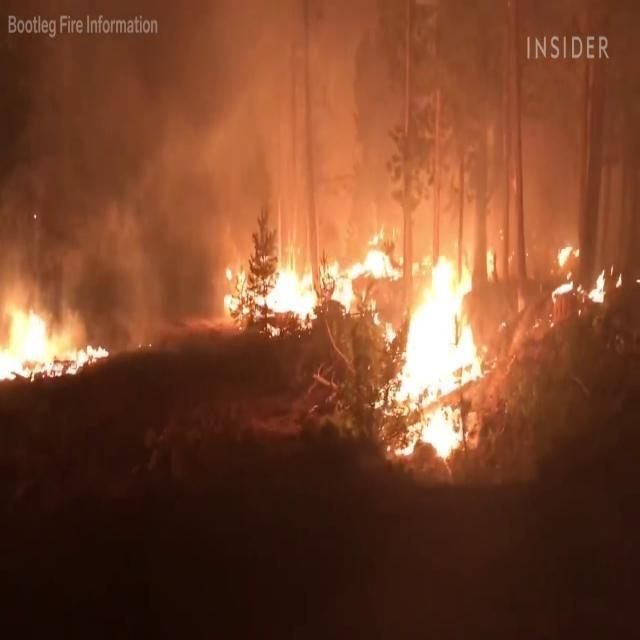Fire: (382, 236, 490, 464), (220, 209, 392, 329), (0, 292, 90, 386), (548, 237, 616, 320)
Smoke: (0, 1, 632, 284)
